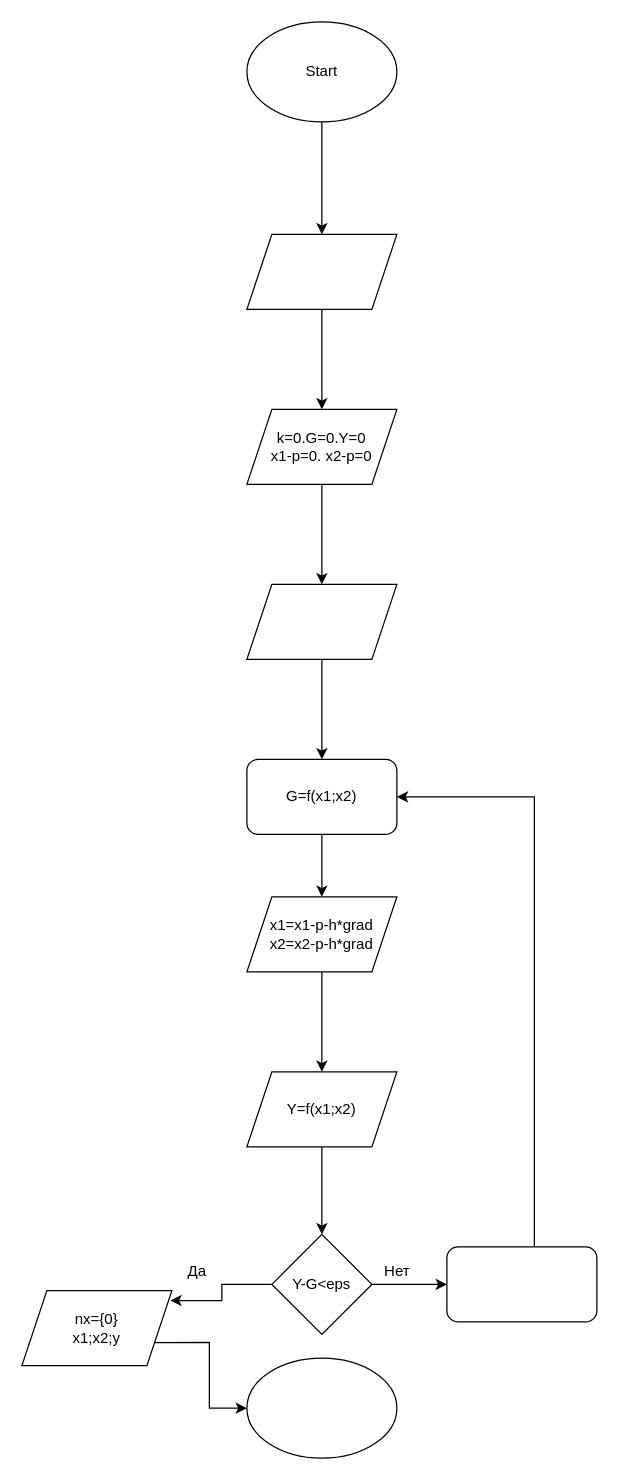
Some shapes in this 619 by 1480 pixel diagram are drawn without their labels. The shapes that lost their labels are listed below. From the top down, each one's centre as x and y in pixels, then its label:
the point at 321,271: Ввод данных
the point at 321,621: x1-px=x1 x2-p=x2
the point at 521,1284: k=k+1
the point at 321,1407: конец
